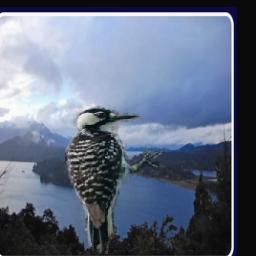Woodpecker: (62, 107, 168, 255)
